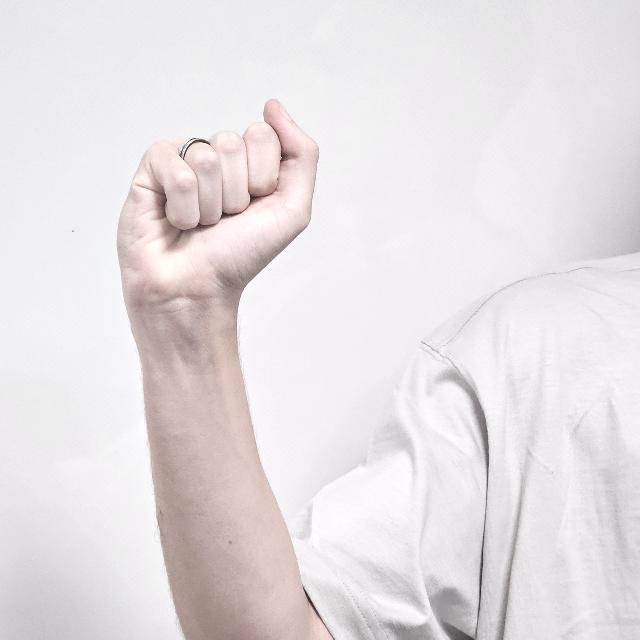Quadro: (115, 97, 318, 326)
